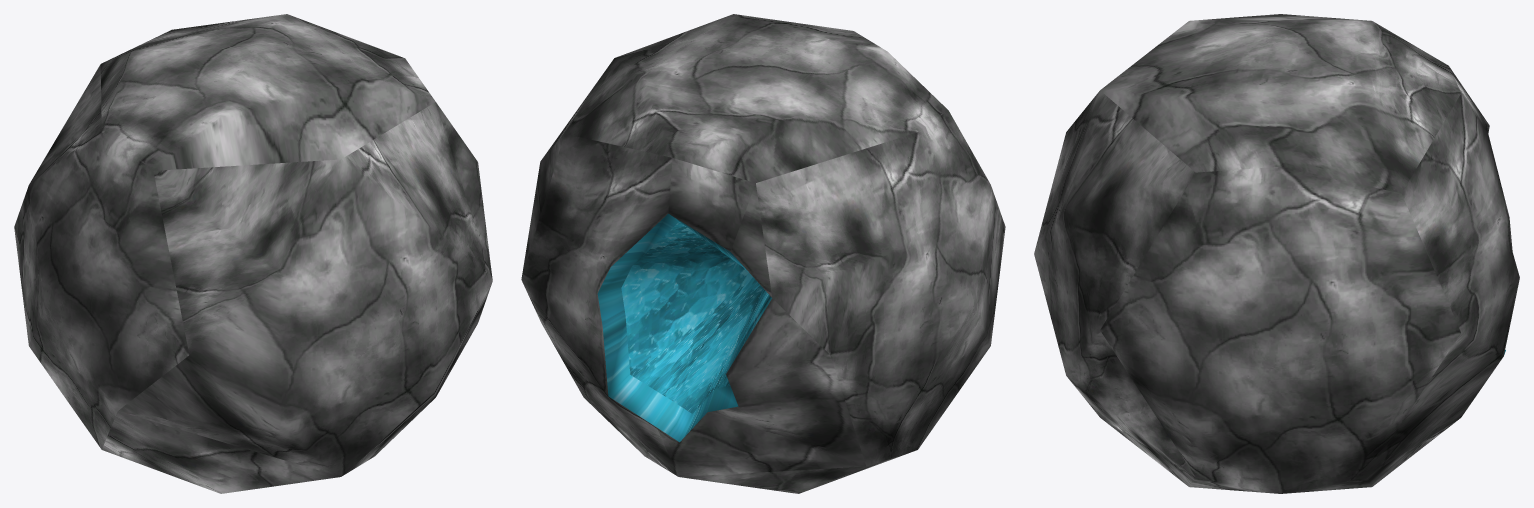
The model's file is INST_TROLLHOLE_GEODE.fbx.
The picture shows the model from 3 angles, left to right: view 1: azimuth 30°, elevation 25°; view 2: azimuth 150°, elevation 25°; view 3: azimuth 270°, elevation 25°; orthographic projection. The views are drawn at different scales.
Parts seen in each view (by area): view 1: INST_TROLLHOLE_GEODE; view 2: INST_TROLLHOLE_GEODE; view 3: INST_TROLLHOLE_GEODE.
Part boxes in pixels (x1=…): INST_TROLLHOLE_GEODE: x1=14, y1=14, x2=492, y2=493; INST_TROLLHOLE_GEODE: x1=521, y1=14, x2=1005, y2=493; INST_TROLLHOLE_GEODE: x1=1034, y1=14, x2=1519, y2=493.
Size of the model in its own units: 10795 by 10342 by 10634.
Materials: 2 (2 with a texture image).
